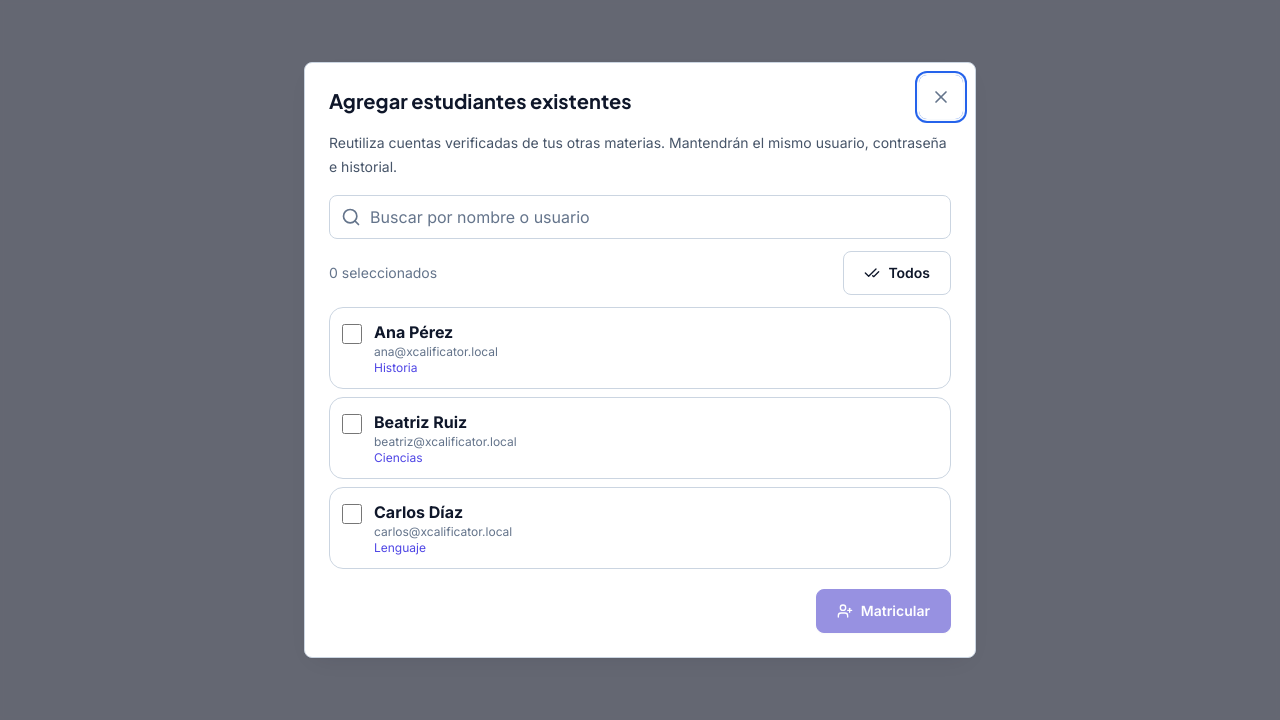
Test: ExistingStudentsDialog bulk selection › selects and clears every visible student with Todos
Click the button with aria-label "Seleccionar todos los estudiantes visibles" at (897, 273), box left=843, top=251, right=951, bottom=295
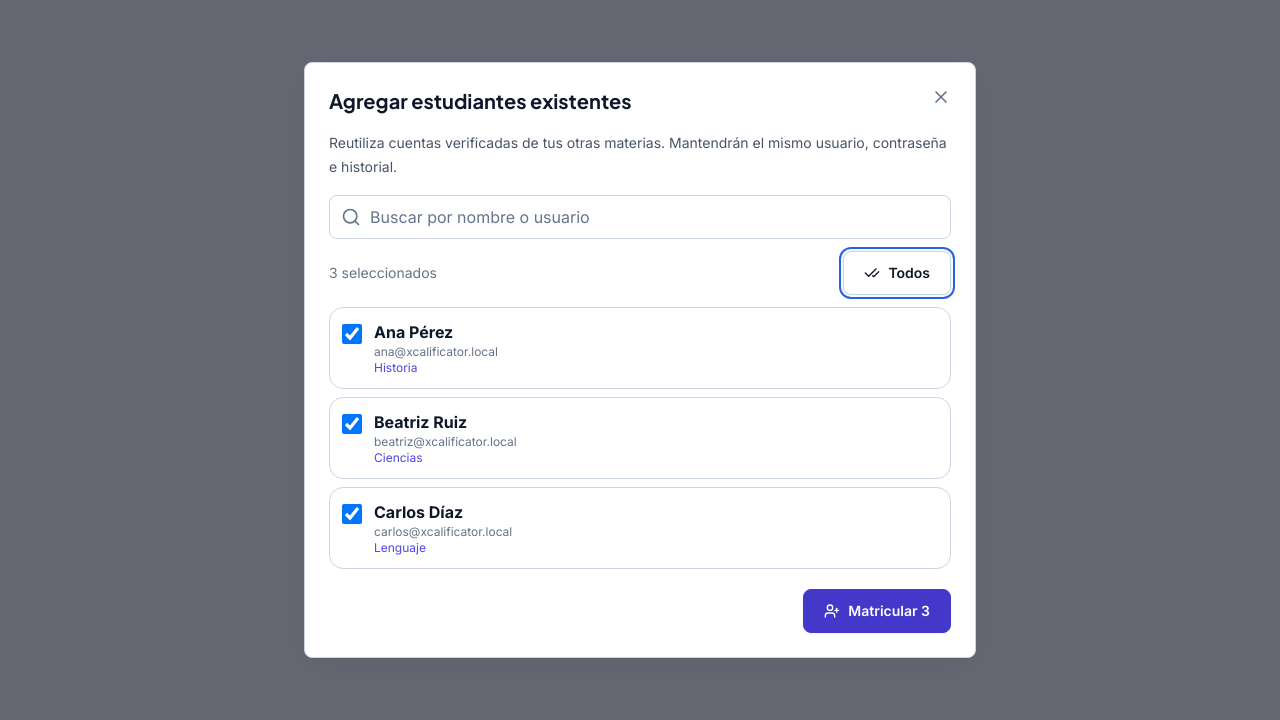
expect the checkbox labelled "Ana Pérez ana@xcalificator.local Historia" is checked: met, box left=342, top=324, right=362, bottom=344
expect the checkbox labelled "Beatriz Ruiz beatriz@xcalificator.local Ciencias" is checked: met, box left=342, top=414, right=362, bottom=434
expect the checkbox labelled "Carlos Díaz carlos@xcalificator.local Lenguaje" is checked: met, box left=342, top=504, right=362, bottom=524
Click the button with aria-label "Desmarcar todos los estudiantes visibles" at (897, 273), box left=843, top=251, right=951, bottom=295
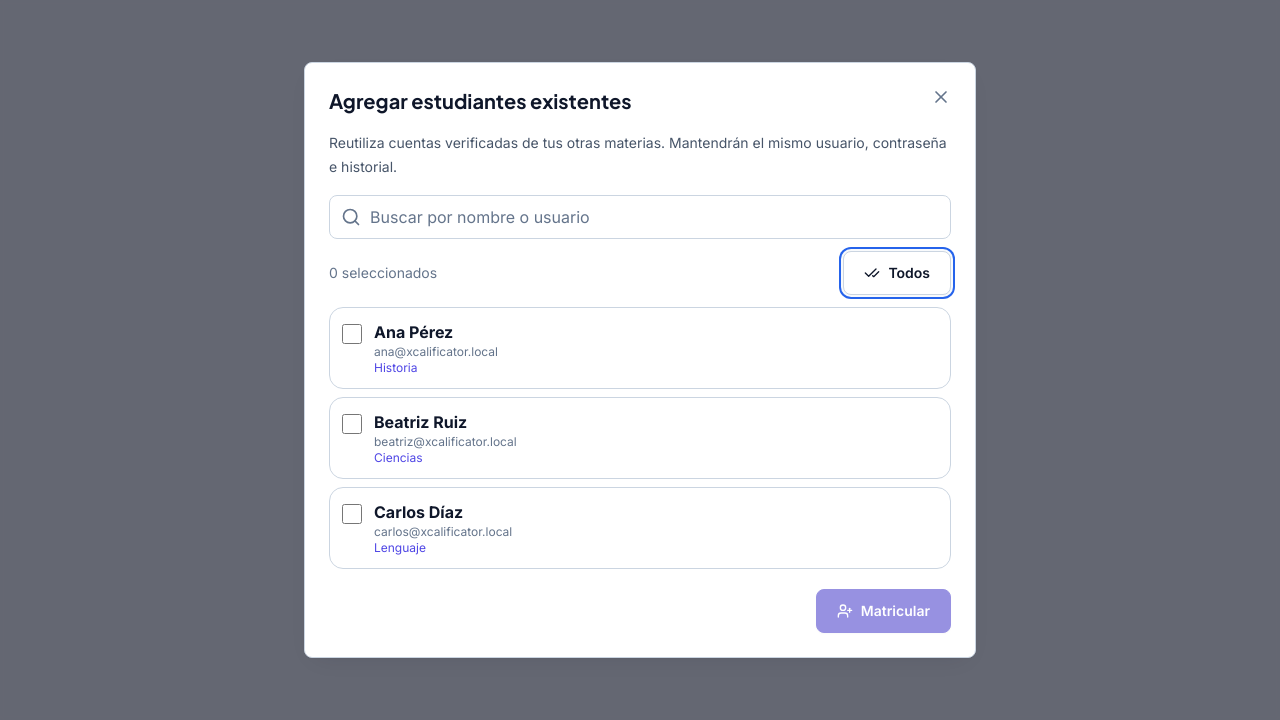
expect the checkbox labelled "Ana Pérez ana@xcalificator.local Historia" is not checked: met, box left=342, top=324, right=362, bottom=344
expect the checkbox labelled "Beatriz Ruiz beatriz@xcalificator.local Ciencias" is not checked: met, box left=342, top=414, right=362, bottom=434
expect the checkbox labelled "Carlos Díaz carlos@xcalificator.local Lenguaje" is not checked: met, box left=342, top=504, right=362, bottom=524
